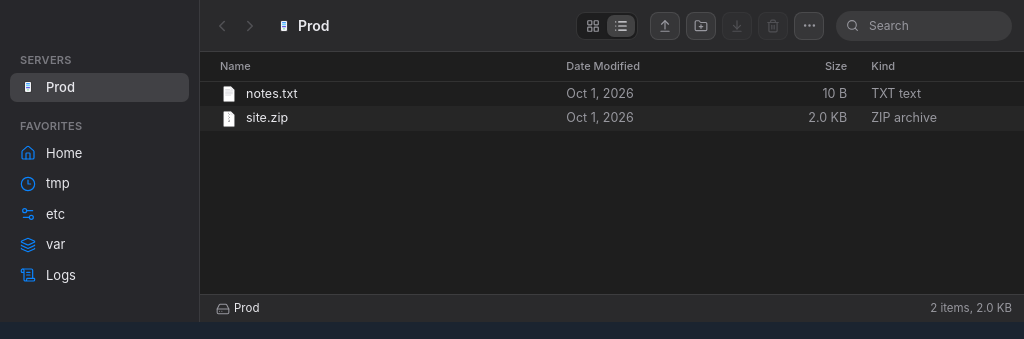
Test: FilesApp archive extraction › extracts to a chosen folder
Expected: the text "site.zip" is shown, [246,109,288,128]
Step 1. Right-click the text "site.zip" → (612, 119), box [200,106,1023,131]
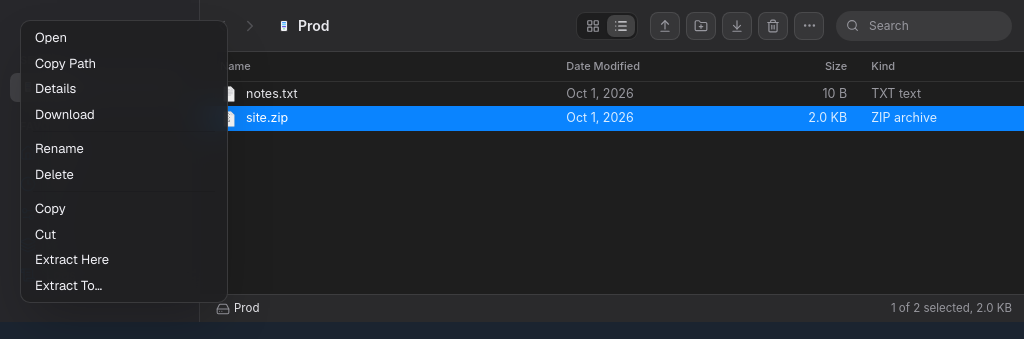
Step 2. Click the menu item "Extract To…" → (124, 285), box [25,272,223,298]
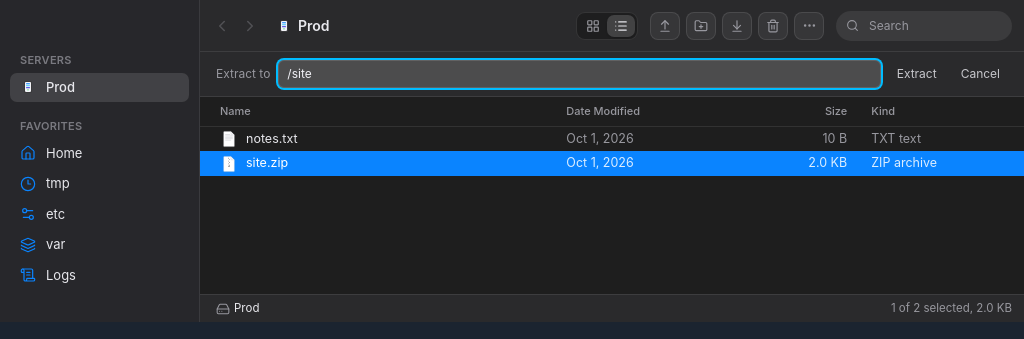
Step 3. Replace the text in the field showing "/site" with "/srv/out" → (579, 74), box [278,60,881,88]
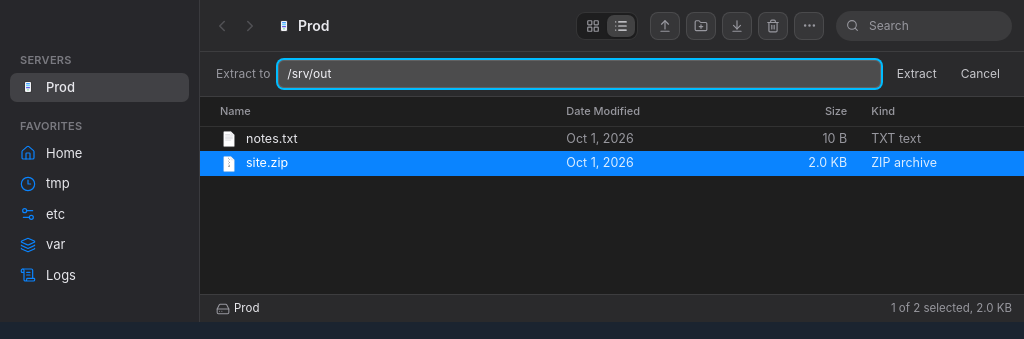
Step 4. Click the button "Extract" → (917, 74), box [889,61,945,87]
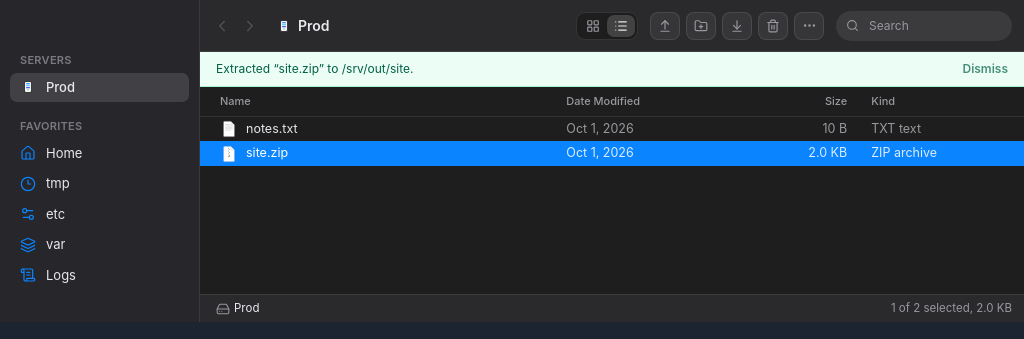
Expected: the text "Extracted “site.zip” to /srv/out/site." is shown, [216,61,414,76]
